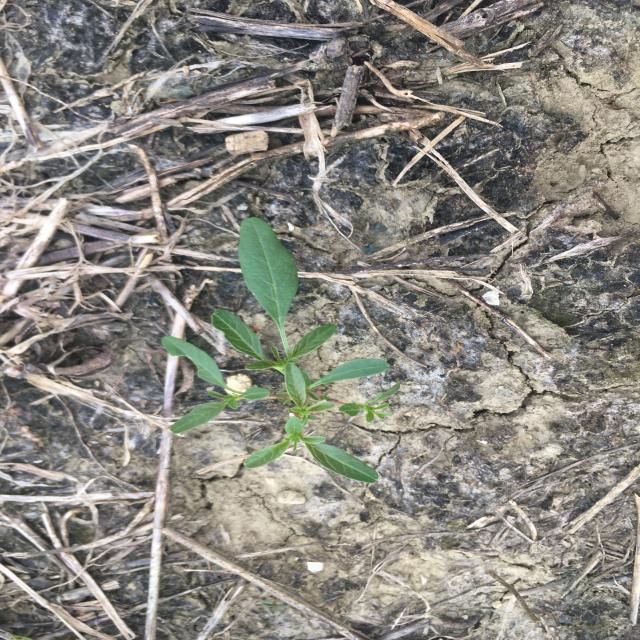Waterhemp: (160, 215, 402, 485)
